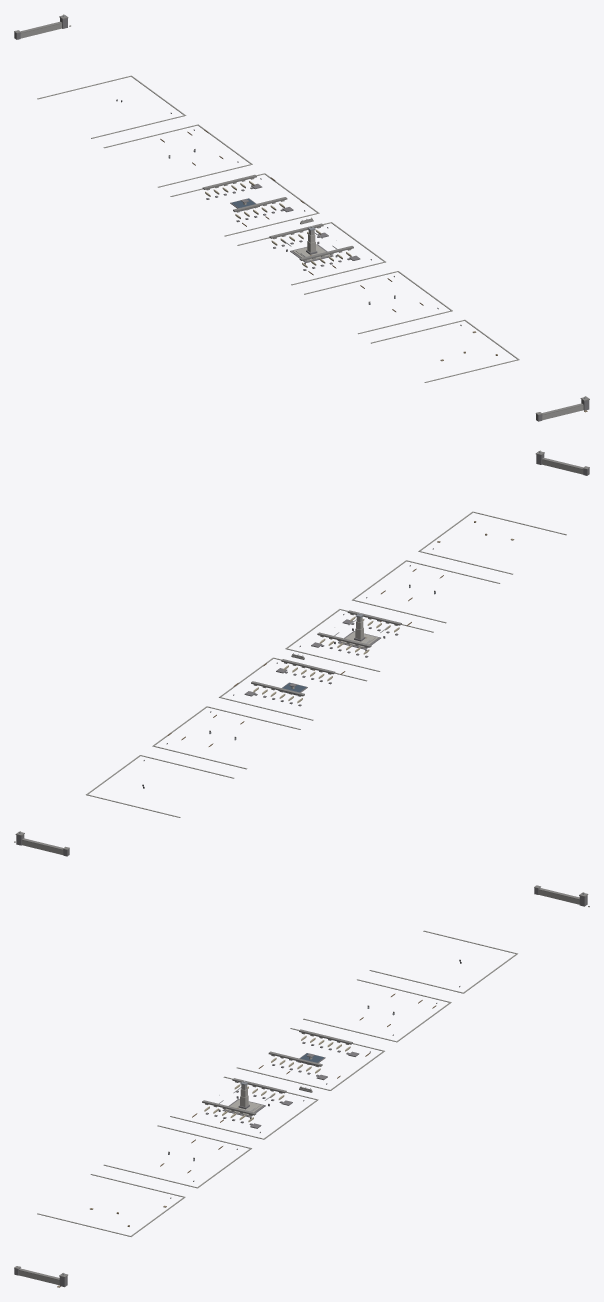
The model's file is city_cell_-1_0.glb.
3 views of the same model, one above another, from view 1: azimuth 30°, elevation 25°; view 2: azimuth 150°, elevation 25°; view 3: azimuth 330°, elevation 25° (orthographic).
Visible parts, largest first — view 1: Cube.008; view 2: Cube.008; view 3: Cube.008.
Part boxes in pixels (bbox=[...]): Cube.008: bbox=[14, 14, 589, 421]; Cube.008: bbox=[14, 450, 589, 856]; Cube.008: bbox=[14, 885, 589, 1287].
Bounding box in the file's own units: 47.61 × 12.91 × 434.
